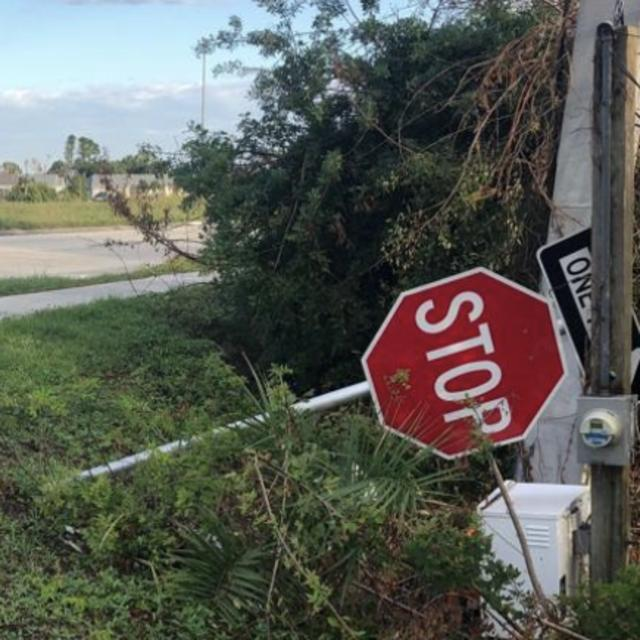Inclined Pole: (71, 265, 569, 487)
